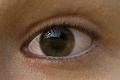eye: (40, 26, 75, 58)
